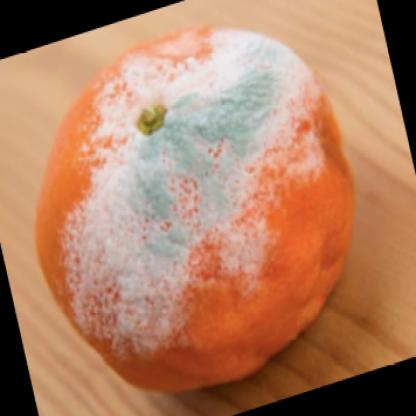rotten_orange: (26, 20, 360, 398)
